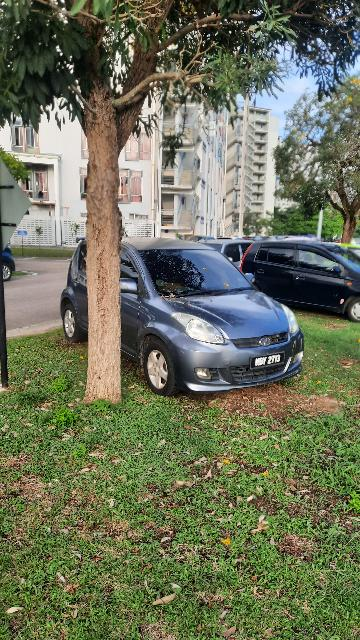License_Plate: (252, 355, 289, 370)
car: (65, 231, 302, 398), (241, 237, 360, 325)
